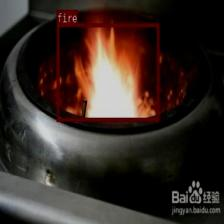fire: (57, 23, 158, 121)
